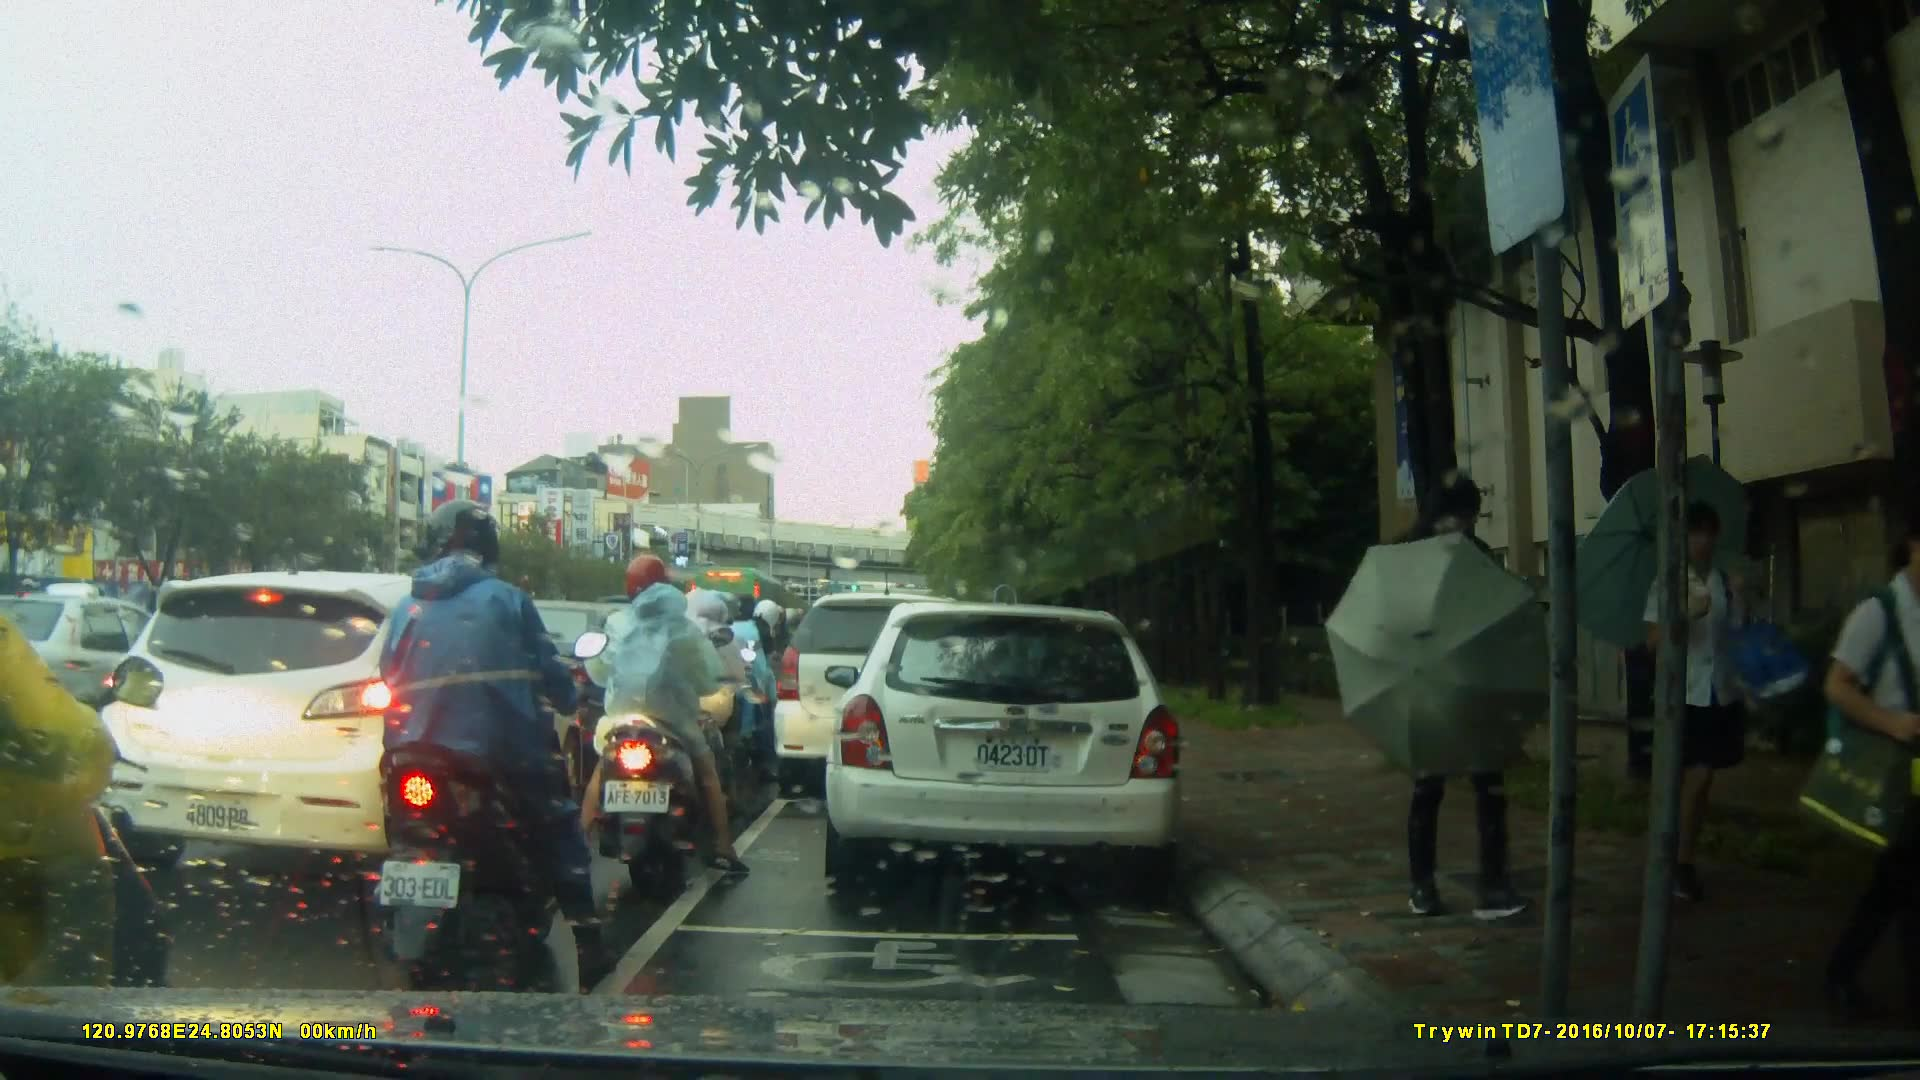pedestrian: (1422, 462, 1559, 940), (1799, 500, 1920, 1024), (1640, 497, 1763, 921)
rider: (374, 503, 613, 975), (1, 455, 179, 1080), (588, 560, 748, 881), (641, 580, 764, 823), (713, 594, 788, 768)
vehicle: (99, 569, 617, 884), (822, 604, 1188, 883), (774, 595, 995, 802), (16, 595, 206, 733)
